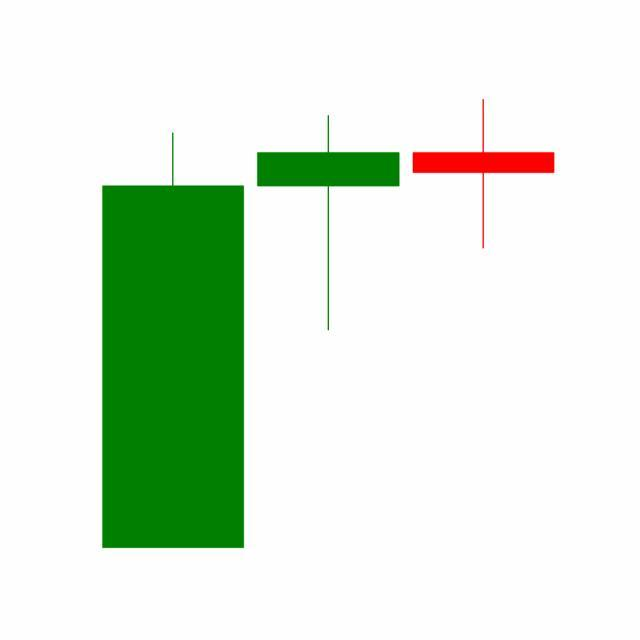Spinning Top: (250, 114, 407, 334)
